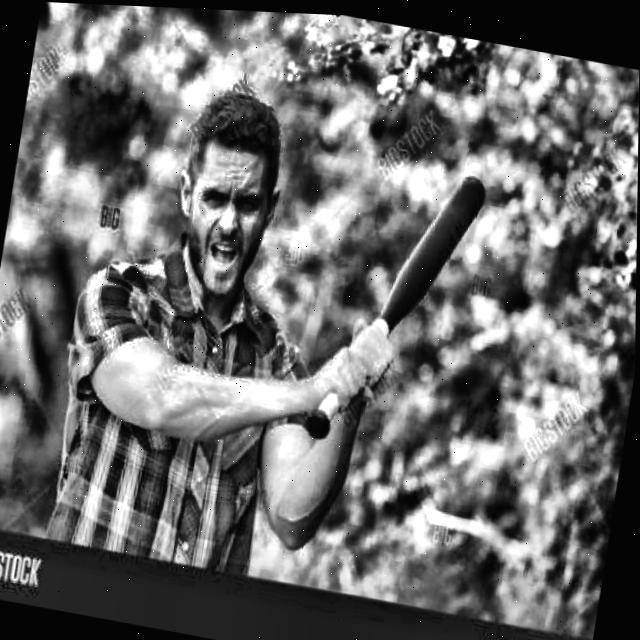tongkat pemukul: (295, 161, 503, 459)
